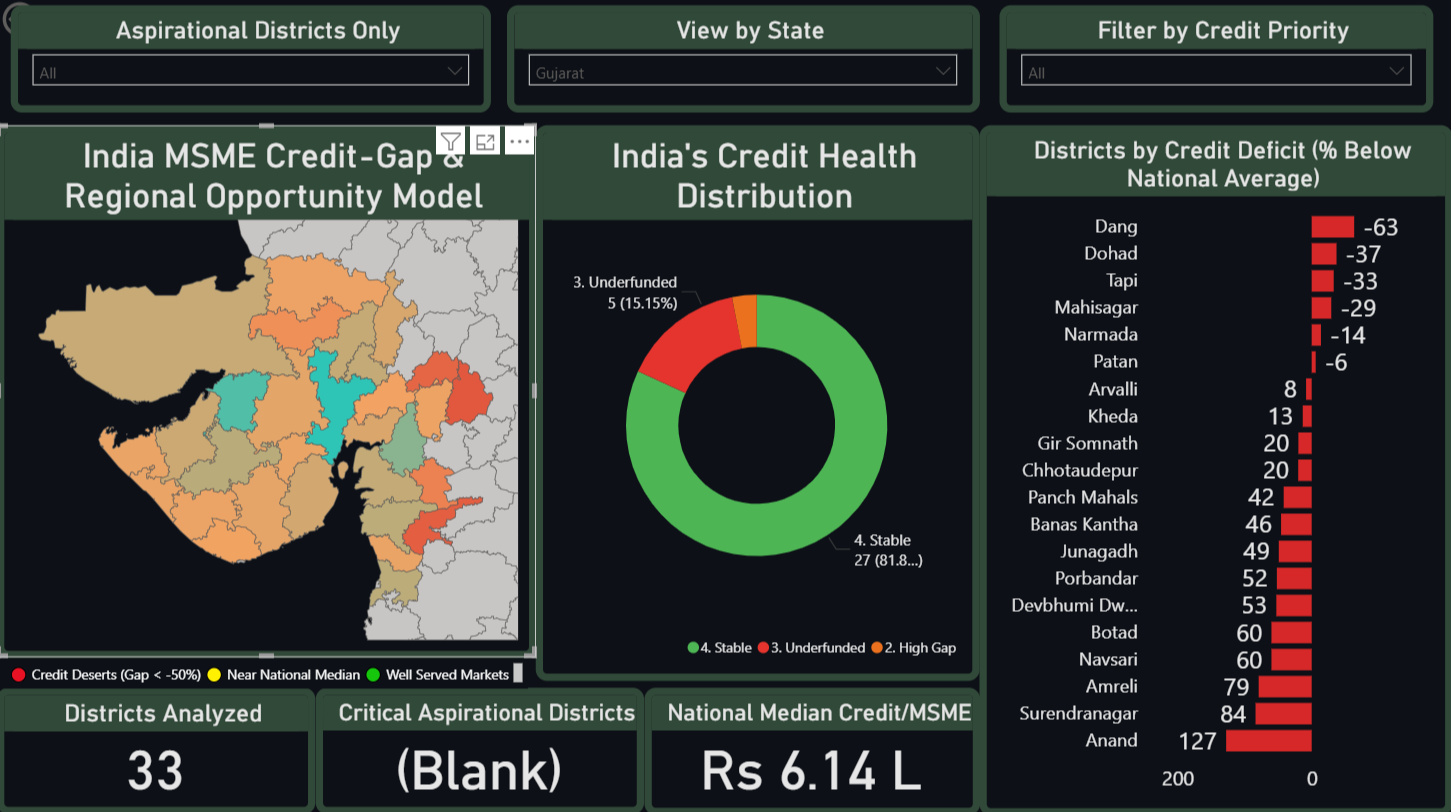

This screenshot's page, from the dashboard's own definition file:
{"tool":"powerbi","page":{"name":"Page 1","canvas":[1280,720],"ordinal":0},"visuals":[{"type":"card","title":"Districts Analyzed","fields":{"Values":["CountNonNull(Indian_MSME_Credit_Gap_2026.District)"]},"box":[0,608.6,280,111.4],"z":0},{"type":"clusteredBarChart","title":"Districts by Credit Deficit (% Below National Average)","fields":{"Category":["Indian_MSME_Credit_Gap_2026.District"],"Y":["Sum(Indian_MSME_Credit_Gap_2026.Gap_Percentage)"]},"box":[864.3,112.9,415.7,607.1],"z":1000},{"type":"shapeMap","title":"India MSME Credit-Gap & Regional Opportunity Model","fields":{"Value":["Sum(Indian_MSME_Credit_Gap_2026.Gap_Percentage)"],"Category":["Indian_MSME_Credit_Gap_2026.District"]},"box":[0,112.9,474.3,468.6],"z":2000},{"type":"actionButton","box":[0,0,100,40],"z":3000},{"type":"slicer","title":"View by State","fields":{"Values":["Indian_MSME_Credit_Gap_2026.State"]},"box":[448.7,8.2,415.8,94.7],"z":4000},{"type":"slicer","title":"Aspirational Districts Only","fields":{"Values":["Indian_MSME_Credit_Gap_2026.Is_Aspirational"]},"box":[12.3,8.2,422.6,94.7],"z":5000},{"type":"slicer","title":"Filter by Credit Priority","fields":{"Values":["Indian_MSME_Credit_Gap_2026.Priority_Level"]},"box":[882.3,8.2,381.5,94.7],"z":6000},{"type":"card","title":"Critical Aspirational Districts","fields":{"Values":["CountNonNull(Indian_MSME_Credit_Gap_2026.District)"]},"box":[280,608.6,288.6,111.4],"z":7000},{"type":"card","title":"National Median Credit/MSME","fields":{"Values":["Median(Indian_MSME_Credit_Gap_2026.Credit_Lakh_Msme)"]},"box":[569.1,608.3,295.2,111.9],"z":8000},{"type":"donutChart","title":"India''s Credit Health Distribution","fields":{"Category":["Indian_MSME_Credit_Gap_2026.Priority_Level"],"Y":["CountNonNull(Indian_MSME_Credit_Gap_2026.Priority_Level)"]},"box":[474.3,112.9,390,488.6],"z":9000},{"type":"textbox","box":[5.7,581.4,461.4,27.1],"z":13000}]}

Visuals, with their boxes in screenshot pixels (x1, y1, x2, y2), scaled from the page's 1280x720 canvas onto the 1451x812 screenshot:
"Districts Analyzed" card: [left=0, top=686, right=317, bottom=811]
"Districts by Credit Deficit (% Below National Average)" clusteredBarChart: [left=980, top=127, right=1450, bottom=811]
"India MSME Credit-Gap & Regional Opportunity Model" shapeMap: [left=0, top=127, right=538, bottom=656]
actionButton: [left=0, top=0, right=113, bottom=45]
"View by State" slicer: [left=509, top=9, right=980, bottom=116]
"Aspirational Districts Only" slicer: [left=14, top=9, right=493, bottom=116]
"Filter by Credit Priority" slicer: [left=1000, top=9, right=1433, bottom=116]
"Critical Aspirational Districts" card: [left=317, top=686, right=645, bottom=811]
"National Median Credit/MSME" card: [left=645, top=686, right=980, bottom=811]
"India''s Credit Health Distribution" donutChart: [left=538, top=127, right=980, bottom=678]
textbox: [left=6, top=656, right=530, bottom=686]
